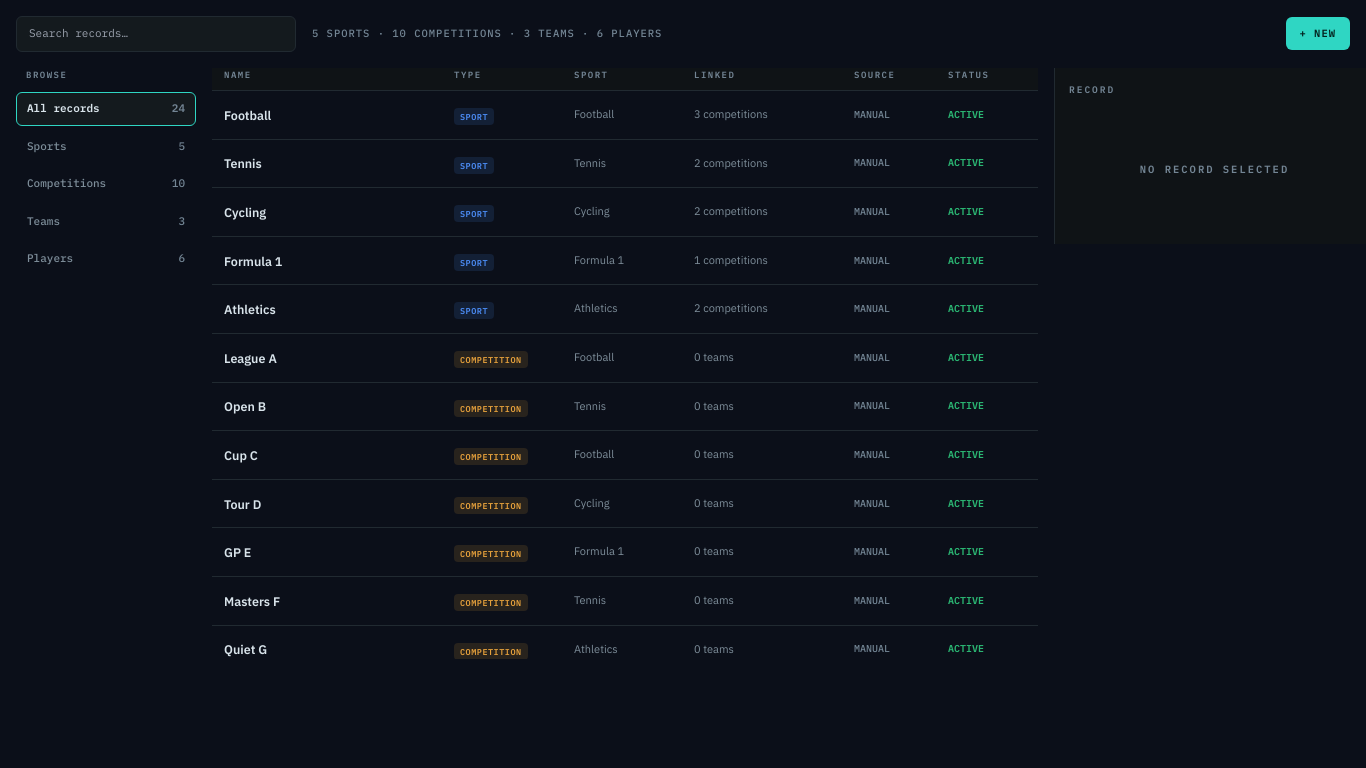
Scenario: create flow (C-4-T1 — refresh → clear filters → select → close) › a successful team create refreshes, resets filters, selects ?record, closes, and shows MANUAL provenance
# narrow the view first, so we can prove filters are cleared post-create
Step 1. Type "zzz-no-match" into the field with test id "ops-registry-search" → (156, 34), box left=16, top=16, right=296, bottom=52
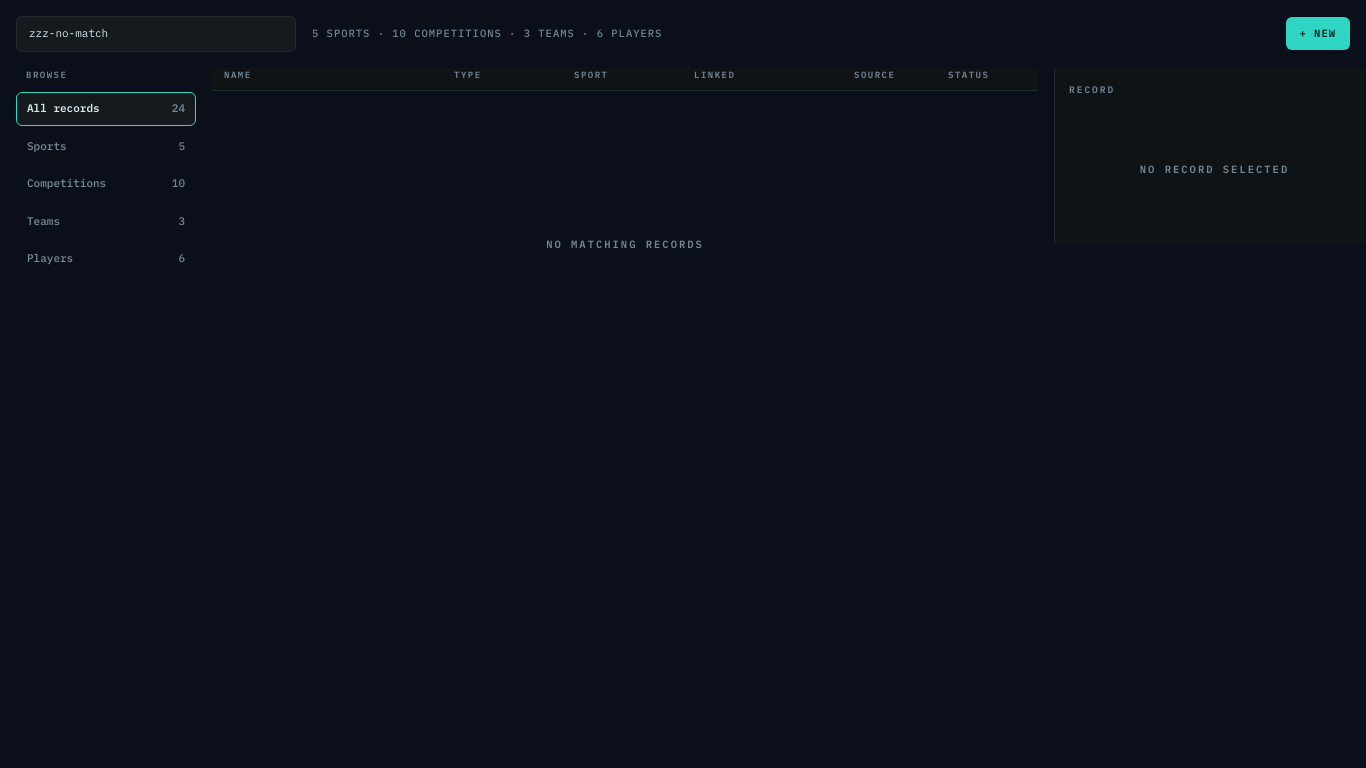
Step 2. Click the button with test id "ops-registry-new" → (1318, 34), box left=1286, top=17, right=1350, bottom=50
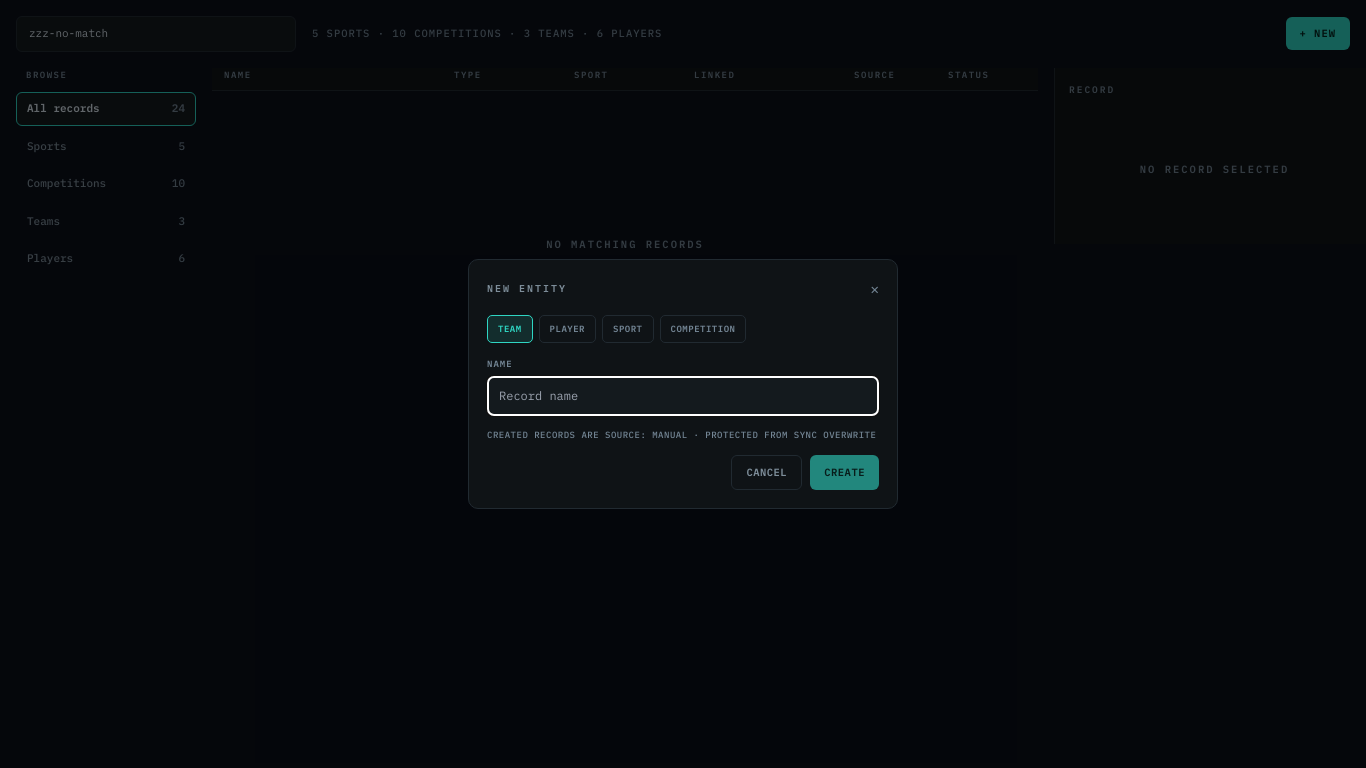
Step 3. Type "Newport County" into the field with test id "ops-create-name" → (683, 396), box left=487, top=376, right=879, bottom=416
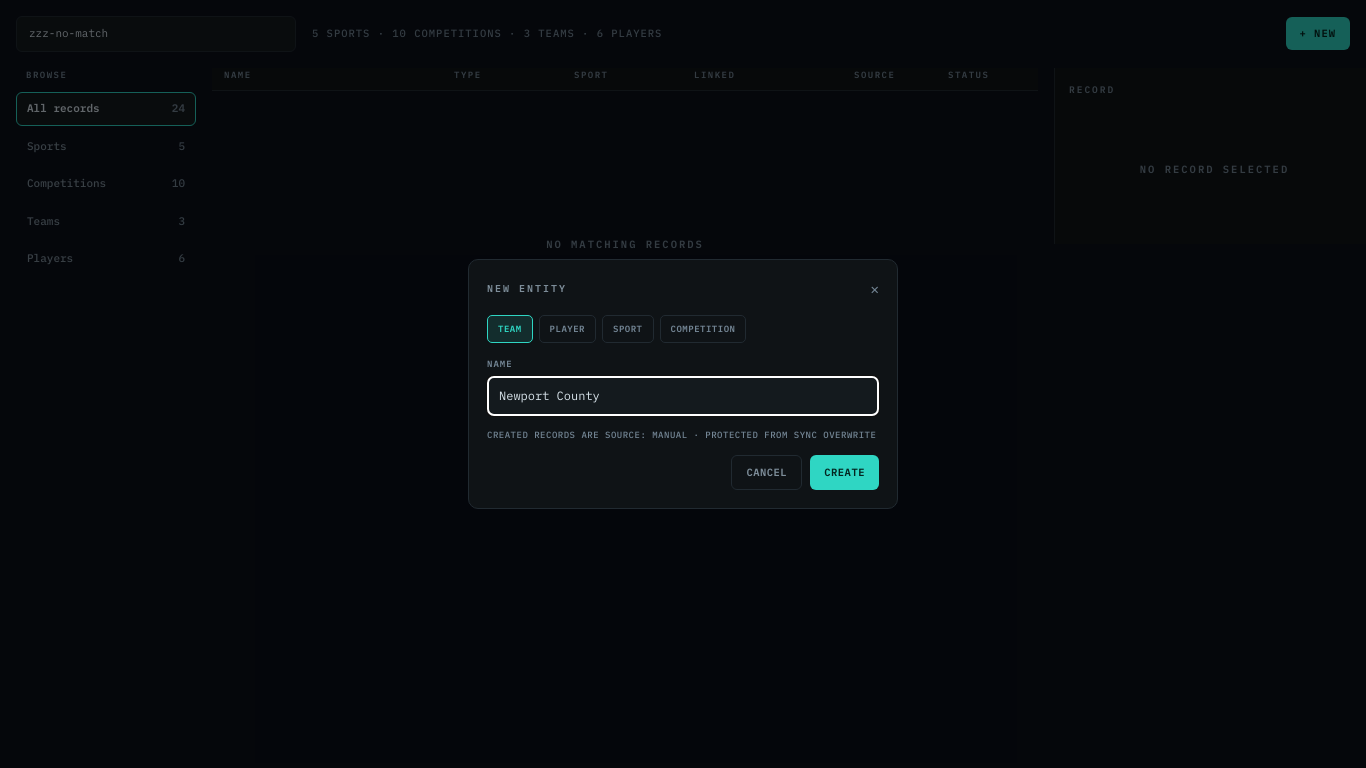
Step 4. Click the button with test id "ops-create-submit" → (845, 472), box left=810, top=455, right=879, bottom=490
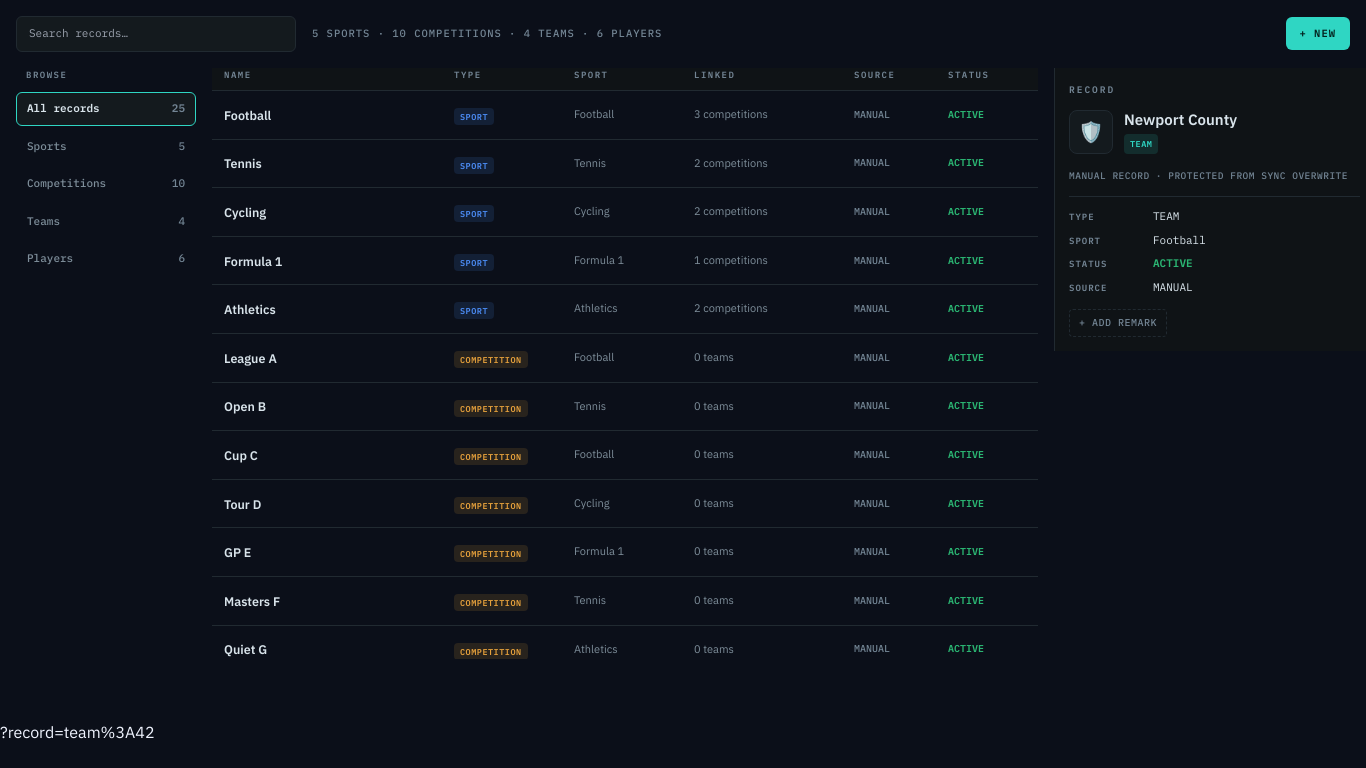
Expected: the dialog with test id "ops-create-modal" is gone
Expected: the field with test id "ops-registry-search" is empty, left=16, top=16, right=296, bottom=52
Expected: the text with test id "ops-record-name" reads "Newport County", left=1124, top=110, right=1237, bottom=129
